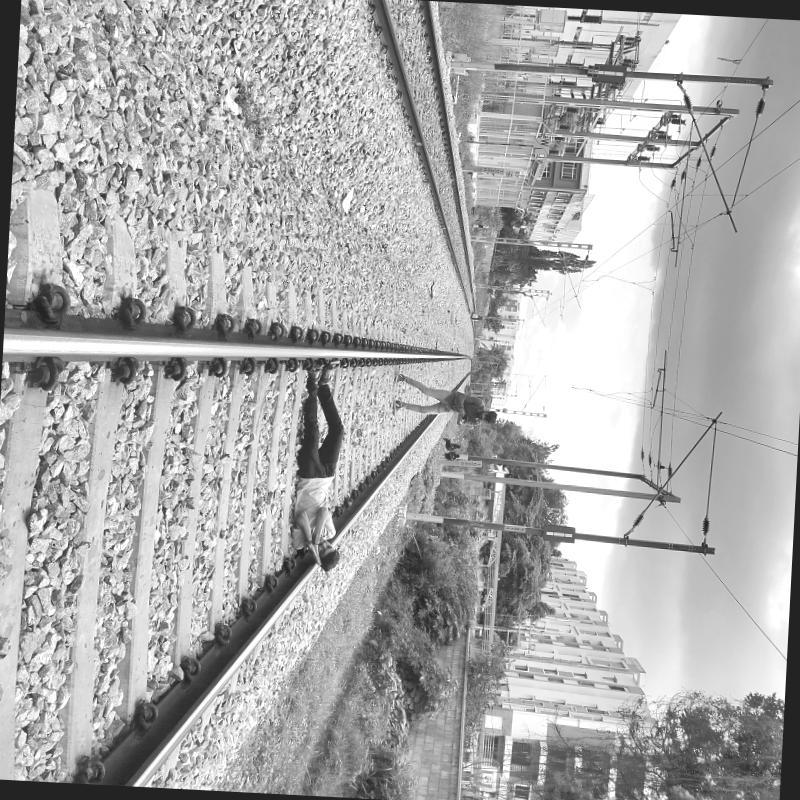sleeping: (276, 340, 362, 584)
